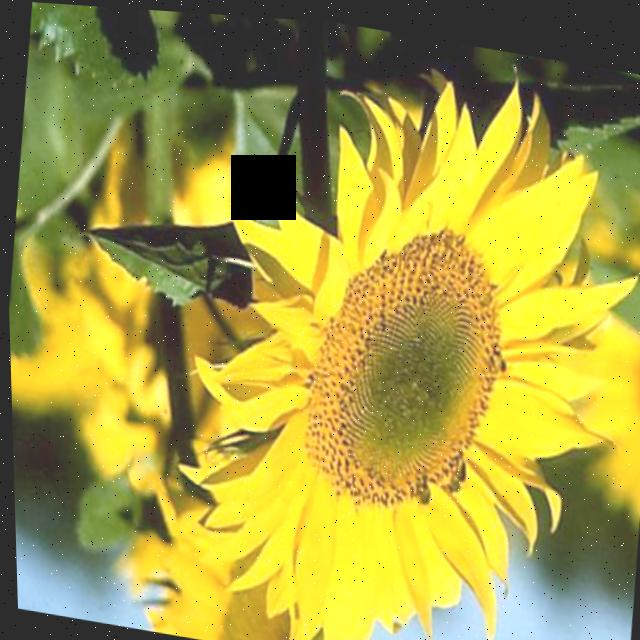sunflower: (52, 3, 640, 640)
